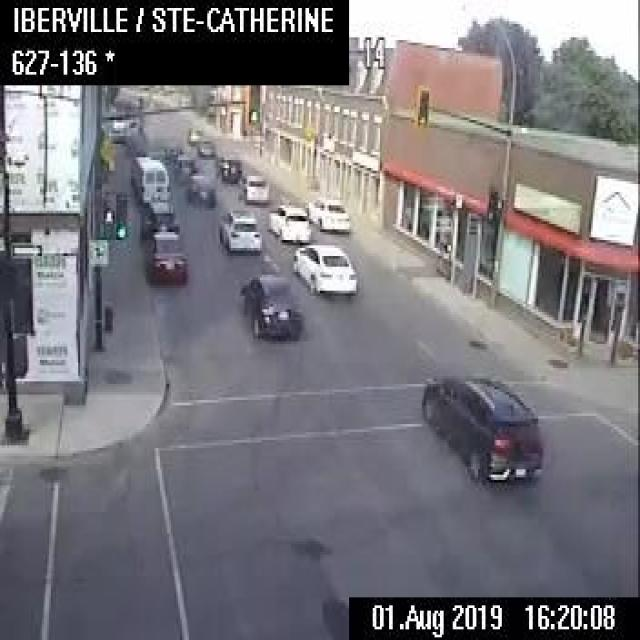vehicle: (415, 371, 540, 488), (238, 271, 301, 340), (291, 241, 357, 296), (142, 228, 187, 284), (214, 207, 260, 252), (128, 151, 169, 201), (266, 202, 310, 242), (302, 195, 350, 231), (139, 196, 178, 232), (234, 171, 267, 202), (183, 173, 214, 206), (171, 152, 195, 182), (109, 118, 133, 142), (216, 153, 237, 177), (127, 93, 144, 112), (195, 136, 212, 155), (186, 125, 199, 142)
